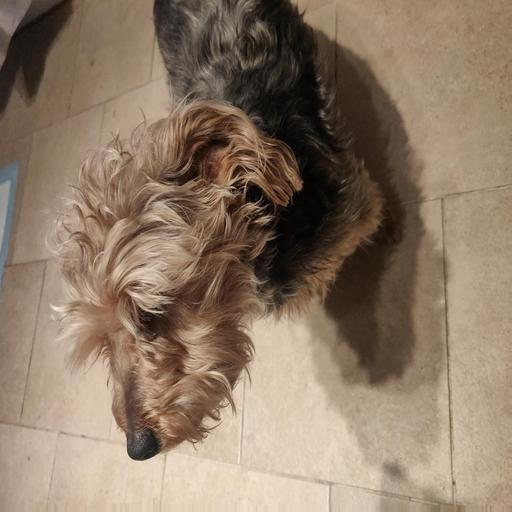dog: (41, 126, 377, 462)
